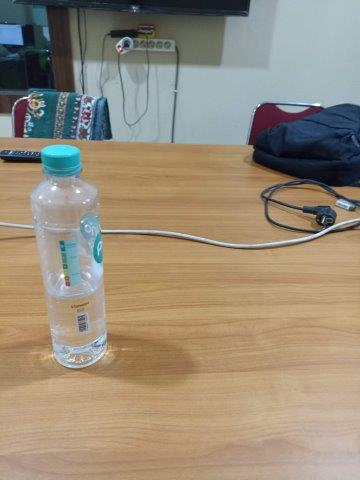botolplastik: (30, 144, 107, 369)
